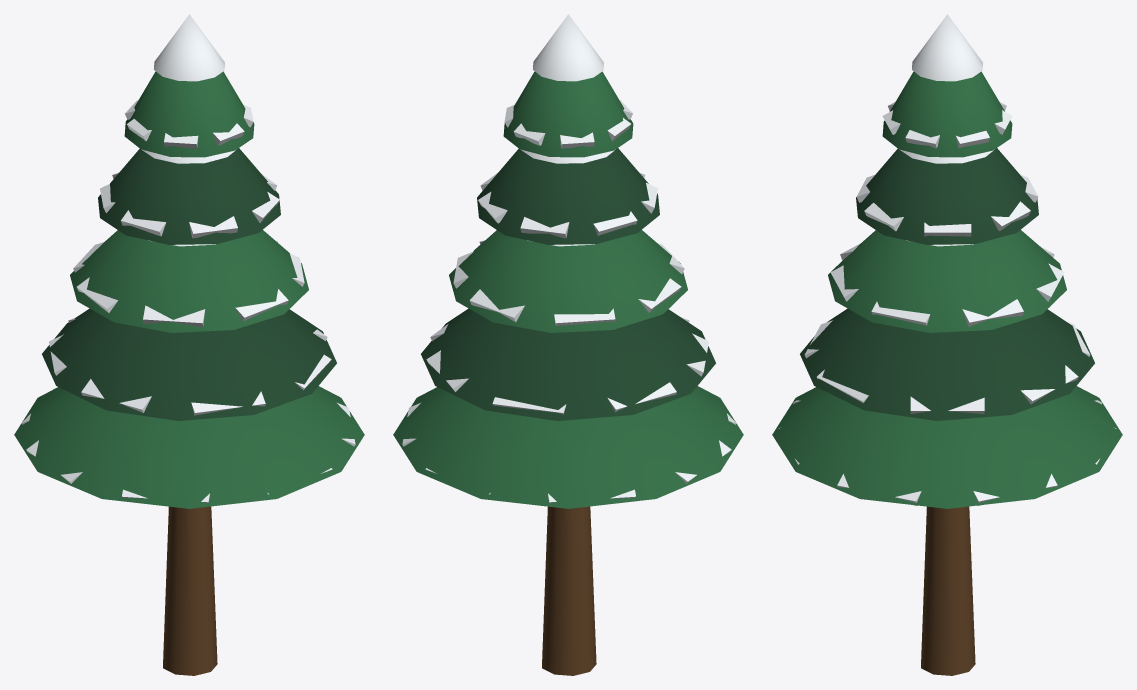
File: arbre_toundra_1.glb
3 views of the same model, side by side, from view 1: azimuth 30°, elevation 25°; view 2: azimuth 150°, elevation 25°; view 3: azimuth 270°, elevation 25° (orthographic).
Visible parts, largest first — view 1: sapin_etage_0.002, sapin_etage_1.002, sapin_etage_2.002, sapin_etage_3.002, sapin_tronc.002, sapin_etage_4.002, sapin_neige_4.002, sapin_bord_2_neige.002, sapin_bord_3_neige.002, sapin_bord_1_neige.002, sapin_bord_4_neige.002, sapin_bord_0_neige.002 (+1 smaller); view 2: sapin_etage_0.002, sapin_etage_1.002, sapin_etage_2.002, sapin_etage_3.002, sapin_tronc.002, sapin_etage_4.002, sapin_neige_4.002, sapin_bord_2_neige.002, sapin_bord_3_neige.002, sapin_bord_1_neige.002, sapin_bord_4_neige.002, sapin_bord_0_neige.002 (+1 smaller); view 3: sapin_etage_0.002, sapin_etage_1.002, sapin_etage_2.002, sapin_etage_3.002, sapin_tronc.002, sapin_etage_4.002, sapin_neige_4.002, sapin_bord_2_neige.002, sapin_bord_3_neige.002, sapin_bord_1_neige.002, sapin_bord_4_neige.002, sapin_bord_0_neige.002 (+1 smaller).
Part boxes in pixels (left/top/right/bottom): sapin_etage_0.002: left=14, top=386, right=364, bottom=508; sapin_etage_1.002: left=42, top=308, right=336, bottom=420; sapin_etage_2.002: left=70, top=230, right=308, bottom=332; sapin_etage_3.002: left=98, top=148, right=280, bottom=244; sapin_tronc.002: left=163, top=506, right=217, bottom=675; sapin_etage_4.002: left=124, top=71, right=254, bottom=157; sapin_neige_4.002: left=154, top=14, right=224, bottom=81; sapin_bord_2_neige.002: left=73, top=241, right=304, bottom=327; sapin_bord_3_neige.002: left=100, top=172, right=279, bottom=238; sapin_bord_1_neige.002: left=49, top=318, right=331, bottom=415; sapin_bord_4_neige.002: left=125, top=100, right=253, bottom=148; sapin_bord_0_neige.002: left=21, top=388, right=355, bottom=503; sapin_etage_0.002: left=393, top=386, right=743, bottom=508; sapin_etage_1.002: left=421, top=308, right=715, bottom=420; sapin_etage_2.002: left=449, top=230, right=687, bottom=332; sapin_etage_3.002: left=477, top=148, right=659, bottom=244; sapin_tronc.002: left=542, top=506, right=596, bottom=675; sapin_etage_4.002: left=503, top=71, right=633, bottom=157; sapin_neige_4.002: left=533, top=14, right=603, bottom=81; sapin_bord_2_neige.002: left=453, top=240, right=684, bottom=325; sapin_bord_3_neige.002: left=478, top=172, right=657, bottom=238; sapin_bord_1_neige.002: left=426, top=317, right=708, bottom=414; sapin_bord_4_neige.002: left=504, top=100, right=632, bottom=148; sapin_bord_0_neige.002: left=402, top=388, right=736, bottom=503; sapin_etage_0.002: left=772, top=386, right=1122, bottom=508; sapin_etage_1.002: left=800, top=308, right=1094, bottom=420; sapin_etage_2.002: left=828, top=230, right=1066, bottom=332; sapin_etage_3.002: left=856, top=148, right=1038, bottom=244; sapin_tronc.002: left=921, top=506, right=975, bottom=675; sapin_etage_4.002: left=882, top=71, right=1012, bottom=157; sapin_neige_4.002: left=912, top=14, right=982, bottom=81; sapin_bord_2_neige.002: left=830, top=243, right=1064, bottom=326; sapin_bord_3_neige.002: left=856, top=175, right=1038, bottom=236; sapin_bord_1_neige.002: left=804, top=320, right=1090, bottom=413; sapin_bord_4_neige.002: left=882, top=102, right=1012, bottom=148; sapin_bord_0_neige.002: left=778, top=400, right=1116, bottom=505.
Bounding box in the file's own units: 2.5 × 5.12 × 2.5.
